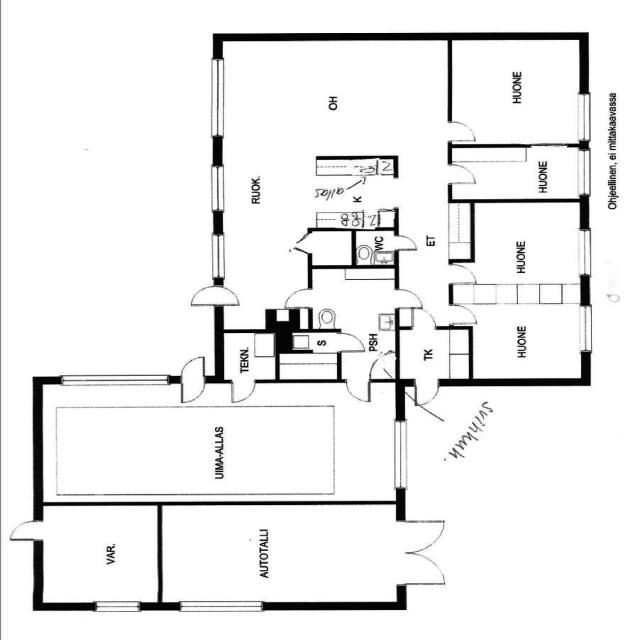door: (394, 514, 455, 592), (176, 354, 209, 406), (186, 284, 243, 307), (5, 518, 46, 544), (443, 117, 481, 144), (368, 349, 398, 379), (225, 379, 260, 404), (390, 287, 425, 311), (446, 262, 478, 287), (407, 307, 439, 331), (446, 303, 478, 327), (282, 286, 315, 309), (446, 163, 479, 186), (413, 380, 441, 407), (388, 232, 422, 254), (345, 379, 373, 403), (336, 332, 366, 353), (290, 232, 315, 256)
window: (51, 368, 178, 391), (202, 56, 231, 142), (169, 595, 273, 617), (390, 418, 412, 492), (571, 90, 596, 147), (571, 144, 595, 200), (207, 162, 230, 218), (575, 224, 596, 280), (575, 303, 596, 356), (208, 233, 230, 283), (86, 598, 148, 615)
zone: (36, 384, 400, 506), (217, 38, 453, 167), (162, 504, 404, 608), (454, 198, 586, 378), (448, 36, 584, 146), (37, 504, 163, 606), (449, 145, 584, 202), (316, 154, 398, 230), (306, 268, 398, 332), (397, 328, 472, 381), (224, 332, 276, 381), (276, 351, 341, 381), (353, 230, 396, 266), (286, 330, 341, 352)
